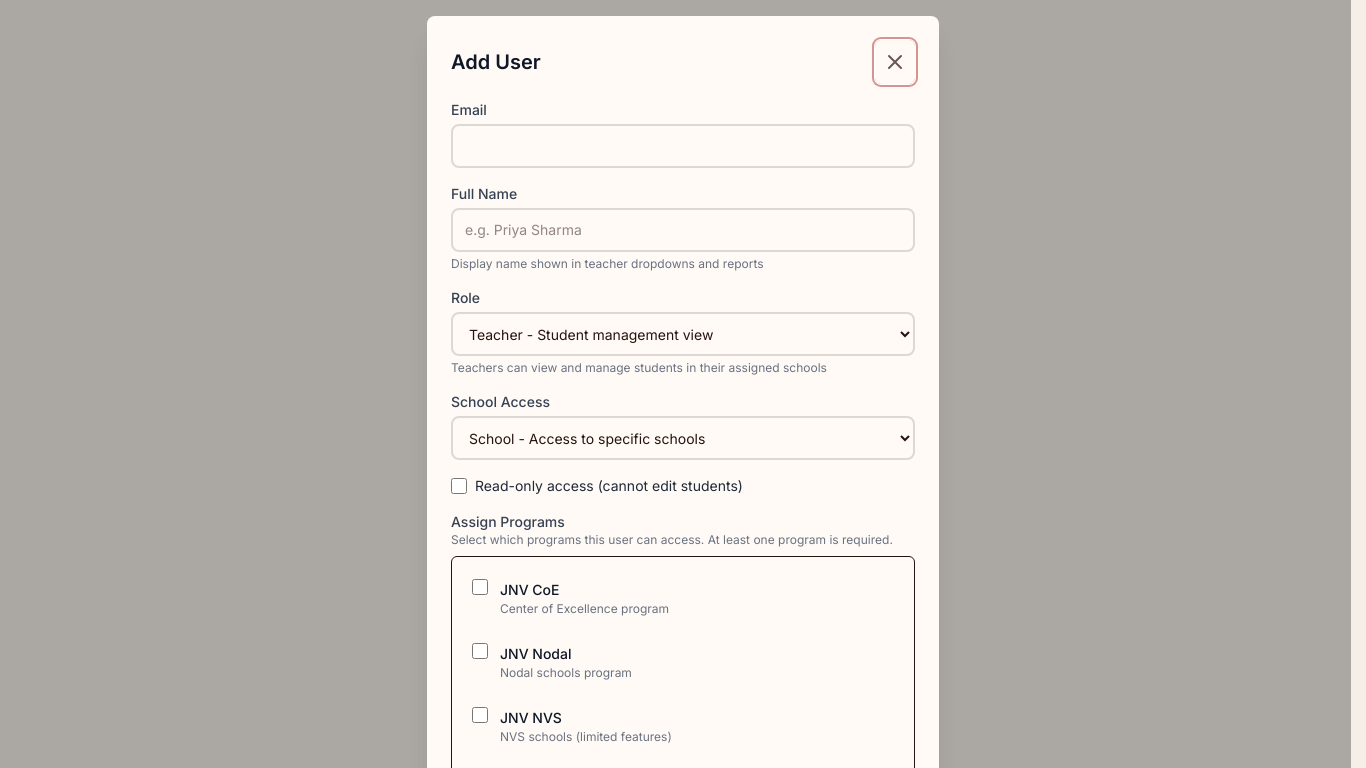
Test: AddUserModal — level-based UI › switches from school picker to region picker when level changes from 1 to 2
The width and height of the screenshot is (1366, 768).
Note: Change level to 2
Select "Region - Access to schools in specific regions" in the dropdown below "School Access". click: [683, 438]
box: [451, 416, 915, 460]
(page scrolled)
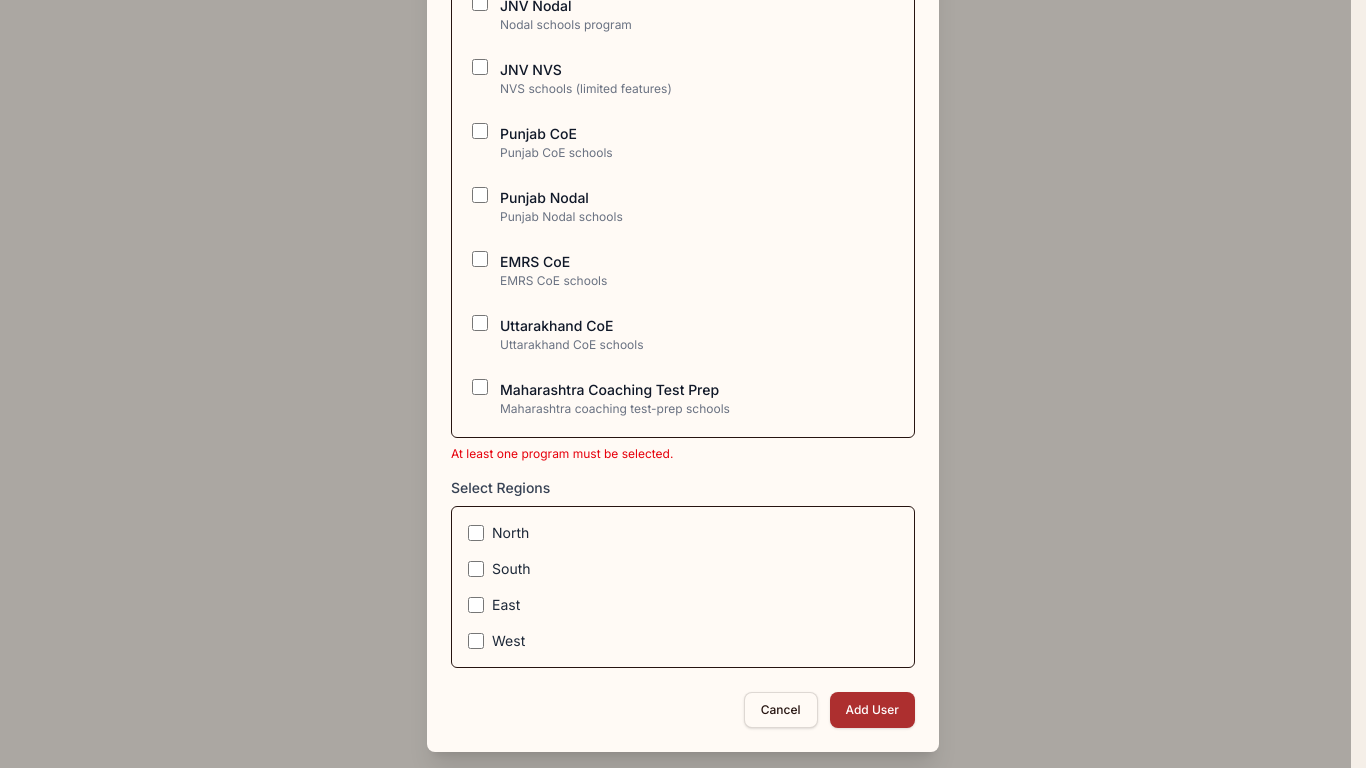
expect the text "Select Regions" is shown: met, box [451, 479, 550, 496]
